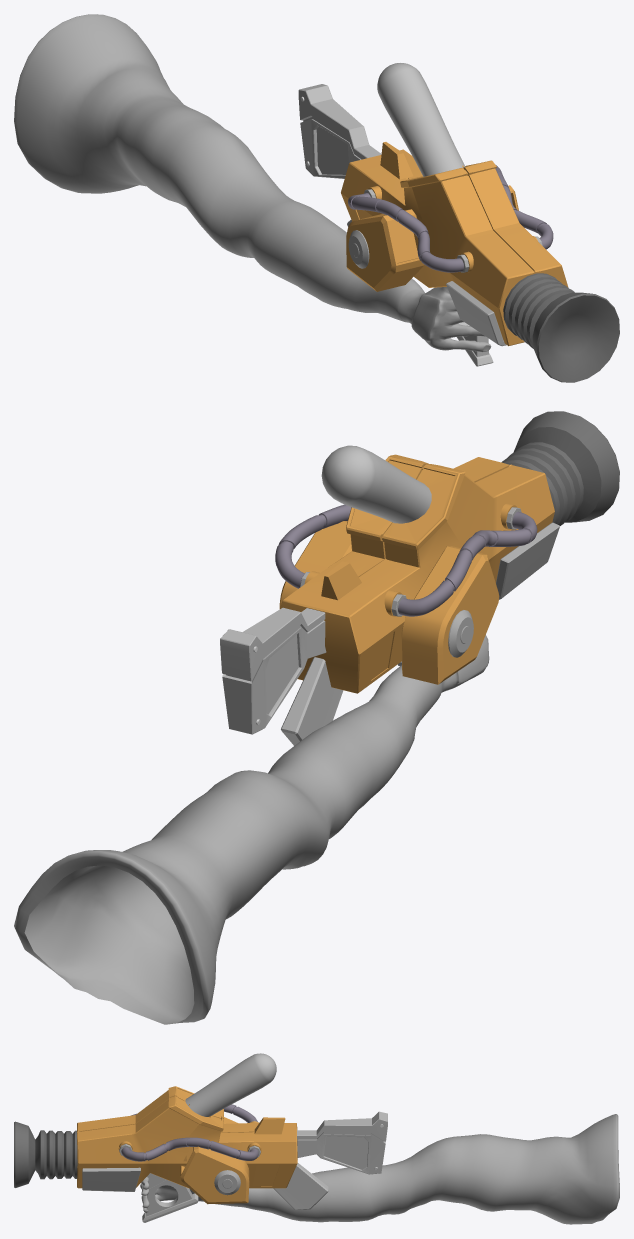
The model's file is hand_bras_normal.fbx.
The picture shows the model from 3 angles, top to bottom: view 1: azimuth 30°, elevation 25°; view 2: azimuth 150°, elevation 25°; view 3: azimuth 270°, elevation 25°; orthographic projection. The views are drawn at different scales.
Parts seen in each view (by area): view 1: bras, polySurface2, pCylinder1, pSphere1, pCube8, pCube7, sweep2, polySurface3, sweep3, pCylinder4, polySurface1; view 2: bras, polySurface2, pCube8, pCylinder1, pCube7, pSphere1, sweep2, pCube9, polySurface3, pCube10, sweep3, pCylinder4; view 3: bras, polySurface2, pCube8, pCylinder1, pSphere1, pCube10, sweep3, pCube9, polySurface3, polySurface1, pCylinder17, sweep2.
Boxes of the visible parts, bbox=[...] form: bras: bbox=[14, 14, 491, 352]; polySurface2: bbox=[341, 142, 568, 346]; pCylinder1: bbox=[503, 273, 619, 382]; pSphere1: bbox=[377, 63, 465, 176]; pCube8: bbox=[298, 84, 381, 178]; pCube7: bbox=[346, 209, 424, 291]; sweep2: bbox=[348, 193, 463, 272]; polySurface3: bbox=[446, 281, 506, 346]; sweep3: bbox=[495, 165, 553, 249]; pCylinder4: bbox=[348, 230, 369, 268]; polySurface1: bbox=[457, 322, 493, 366]; bras: bbox=[14, 635, 489, 1024]; polySurface2: bbox=[280, 454, 554, 693]; pCube8: bbox=[220, 607, 326, 734]; pCylinder1: bbox=[501, 411, 619, 525]; pCube7: bbox=[401, 546, 499, 684]; pSphere1: bbox=[321, 445, 431, 523]; sweep2: bbox=[398, 511, 537, 616]; pCube9: bbox=[281, 657, 343, 745]; polySurface3: bbox=[496, 522, 559, 599]; pCube10: bbox=[279, 521, 351, 608]; sweep3: bbox=[275, 504, 351, 588]; pCylinder4: bbox=[448, 610, 473, 657]; bras: bbox=[140, 1114, 619, 1224]; polySurface2: bbox=[77, 1086, 297, 1188]; pCube8: bbox=[297, 1111, 387, 1174]; pCylinder1: bbox=[14, 1121, 77, 1187]; pSphere1: bbox=[185, 1053, 276, 1116]; pCube10: bbox=[180, 1146, 249, 1204]; sweep3: bbox=[121, 1137, 258, 1161]; pCube9: bbox=[273, 1163, 328, 1209]; polySurface3: bbox=[82, 1167, 140, 1191]; polySurface1: bbox=[142, 1173, 198, 1222]; pCylinder17: bbox=[214, 1170, 240, 1195]; sweep2: bbox=[131, 1104, 257, 1122].
Bounding box in the file's own units: 22.15 × 27.65 × 80.12.
